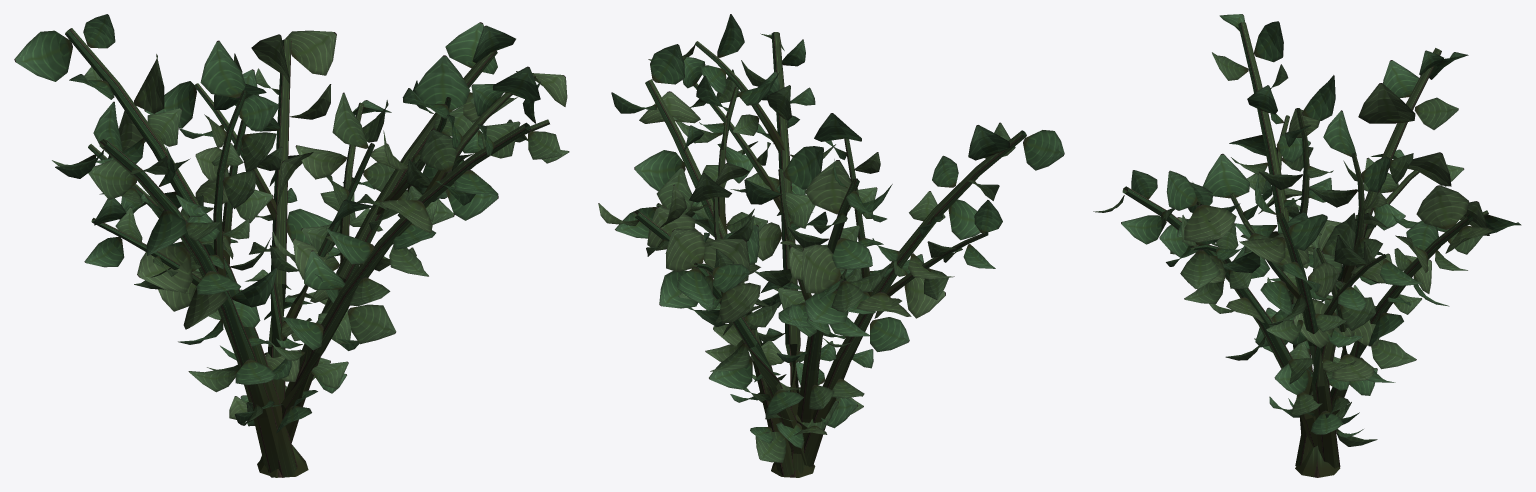
The model's file is busch1_neu.fbx.
3 renders of one model, left to right at view 1: azimuth 30°, elevation 25°; view 2: azimuth 150°, elevation 25°; view 3: azimuth 270°, elevation 25°, orthographic. The views are drawn at different scales.
Visible parts, largest first — view 1: Busch1; view 2: Busch1; view 3: Busch1.
Boxes of the visible parts, x1,y1,x2,y2 form: Busch1: (14, 14, 569, 477); Busch1: (598, 14, 1064, 477); Busch1: (1093, 14, 1521, 477).
Bounding box in the file's own units: 1.07 × 0.9032 × 0.9388.
Materials: 2 (2 with a texture image).
